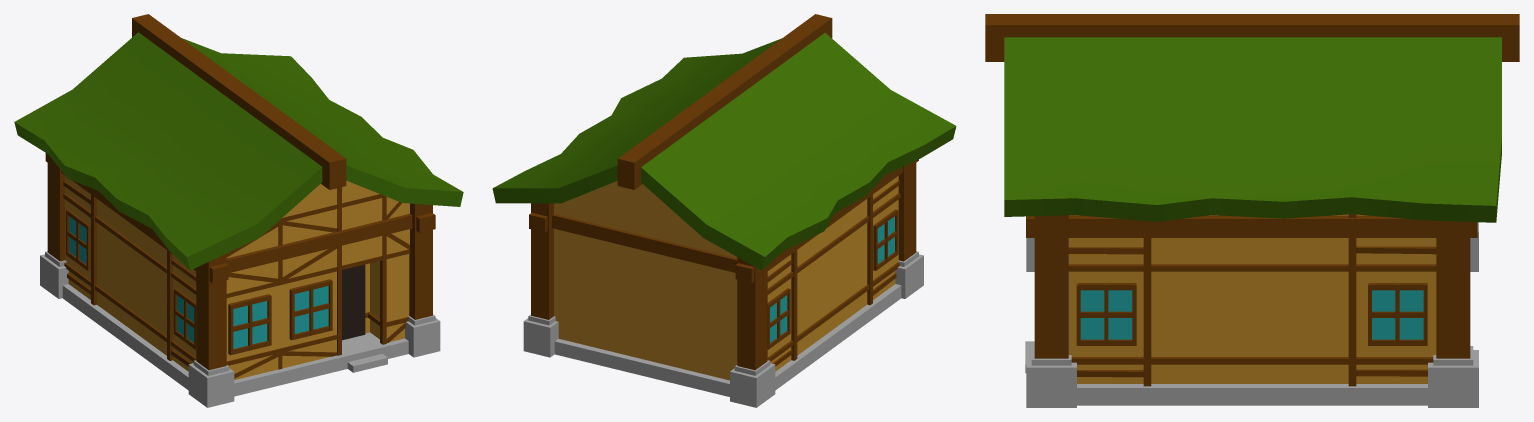
File: Village_Modular_Building_3.fbx
3 views of the same model, side by side, from view 1: azimuth 30°, elevation 25°; view 2: azimuth 150°, elevation 25°; view 3: azimuth 270°, elevation 25° (orthographic). The views are drawn at different scales.
Visible parts, largest first — view 1: pCube3; view 2: pCube3; view 3: pCube3.
Part boxes in pixels (left/top/right/bottom): pCube3: left=14, top=14, right=463, bottom=407; pCube3: left=492, top=14, right=956, bottom=407; pCube3: left=985, top=14, right=1519, bottom=407.
Bounding box in the file's own units: 12.56 × 9.73 × 15.14.
